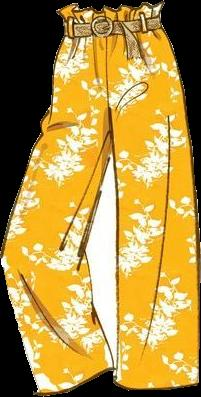Hemline: (37, 366, 113, 396), (112, 380, 200, 391)
Pantleg: (0, 3, 113, 394), (103, 0, 199, 389)
Waistline: (54, 0, 164, 14), (62, 24, 164, 39), (63, 13, 160, 27)
